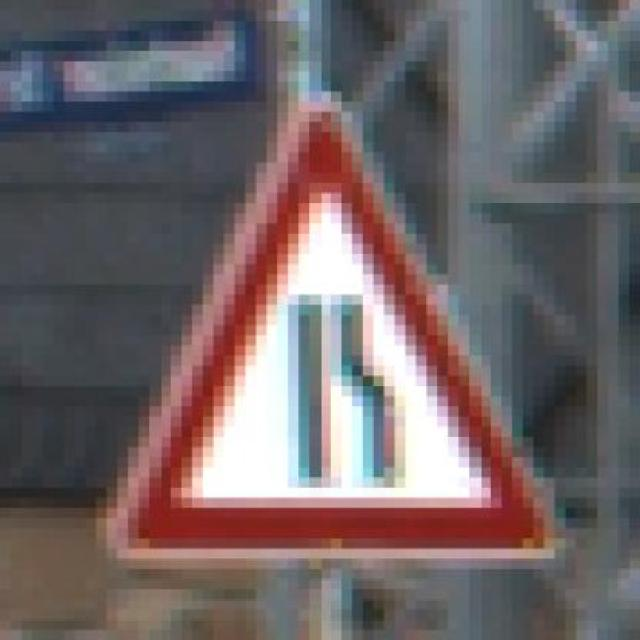-Road narrows on right: (97, 82, 566, 569)
